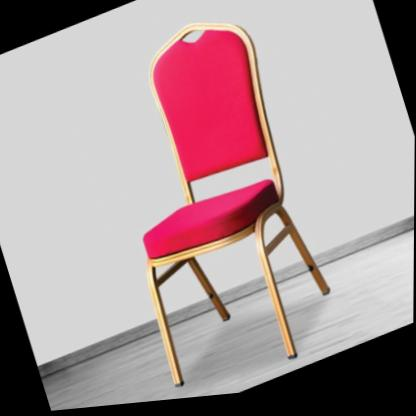Chair: (75, 3, 347, 407)
